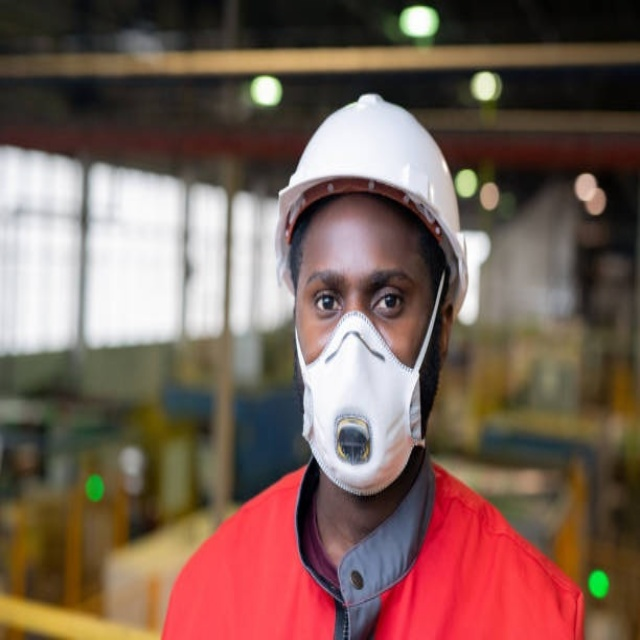Mascara: (297, 268, 443, 494)
Sin_gafas: (300, 257, 429, 317)
